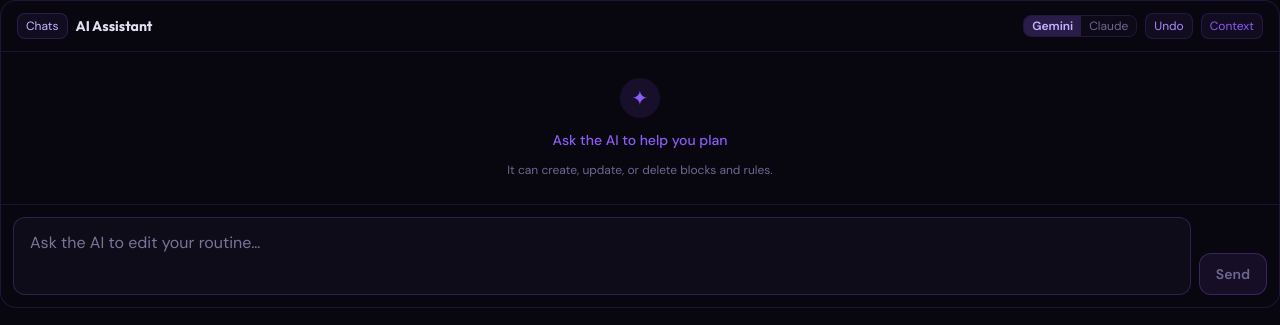
ChatPanel › clicking Undo sends the undo phrase through the chat
Step 1. Click the button with aria-label "undo last action" → (1169, 26), box [1145, 13, 1193, 39]
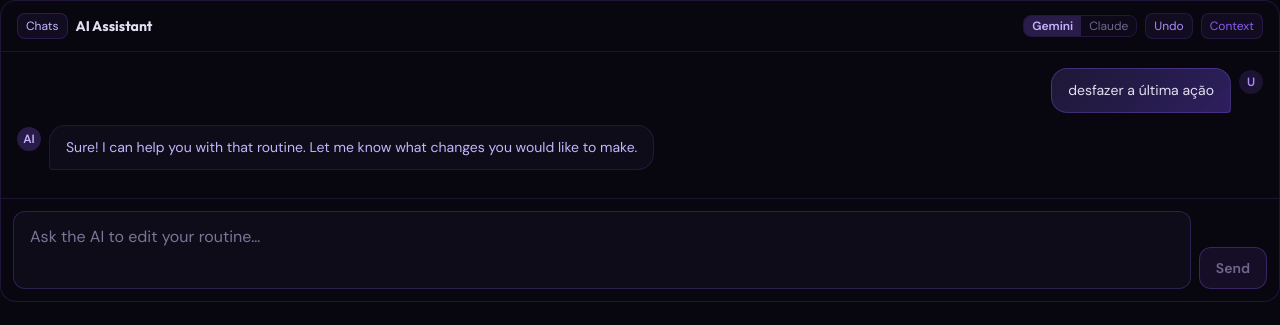
Check: the text "desfazer a última ação" is shown, box [1051, 68, 1231, 113]
